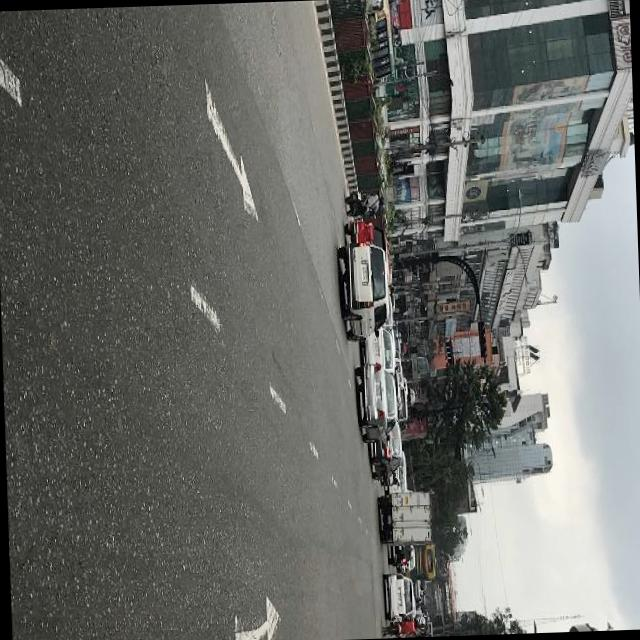bus: (361, 0, 404, 82), (405, 546, 436, 582)
car: (336, 240, 390, 346), (354, 362, 399, 446), (342, 220, 388, 280), (368, 422, 403, 482), (359, 327, 396, 376), (380, 574, 416, 620), (379, 450, 406, 486), (385, 546, 414, 568)
motorcycle: (344, 192, 386, 218)
truck: (375, 492, 433, 548)
